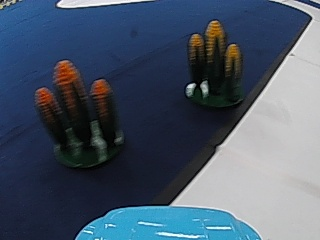corn: (35, 65, 124, 171), (183, 19, 245, 112)
